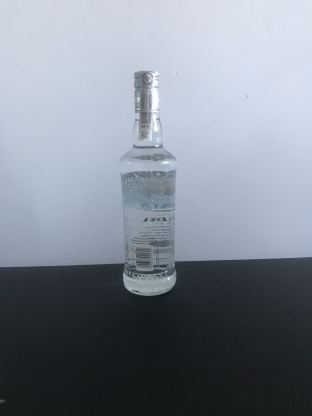nakretka: (131, 67, 161, 115)
